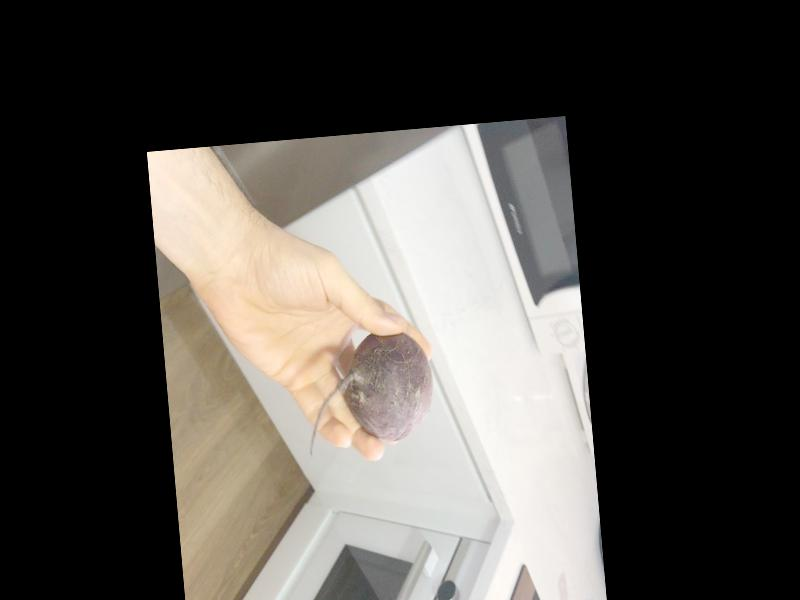Beet: (299, 329, 438, 458)
